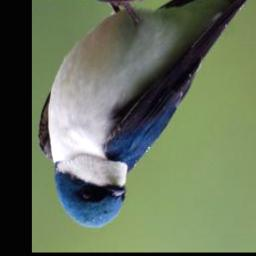Swallow: (38, 0, 256, 231)
